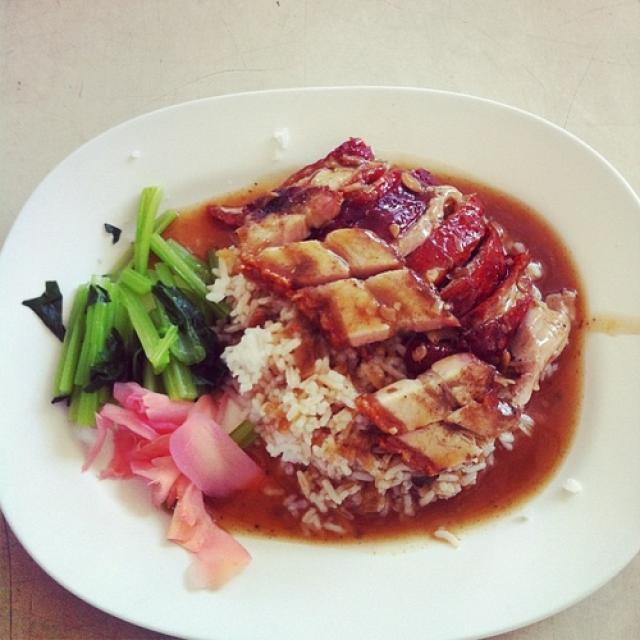米饭主食: (96, 128, 588, 572)
